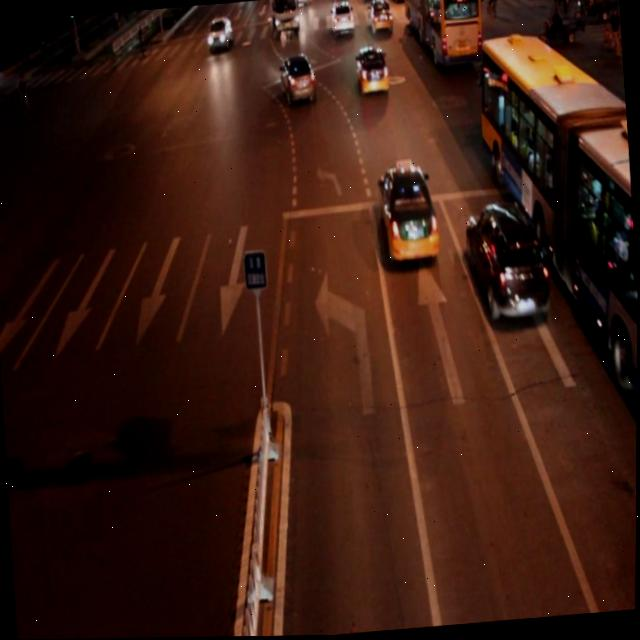car: (464, 202, 549, 323), (375, 159, 441, 266), (278, 51, 318, 104), (353, 42, 389, 98)
van: (475, 31, 640, 474)
